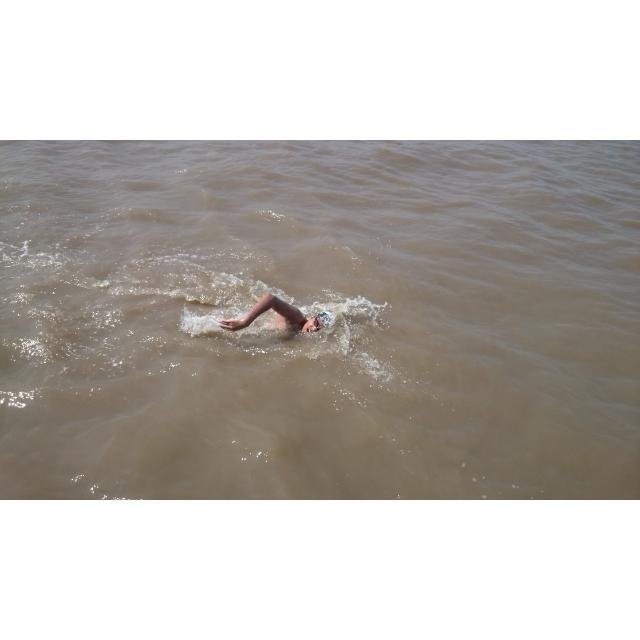human: (219, 292, 338, 340)
